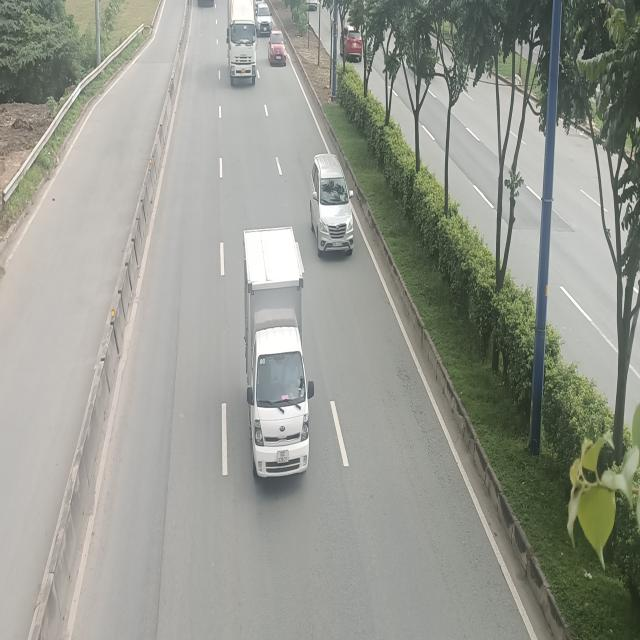car: (311, 154, 353, 258), (269, 30, 286, 66)
truck: (240, 227, 316, 476), (227, 0, 258, 83)
